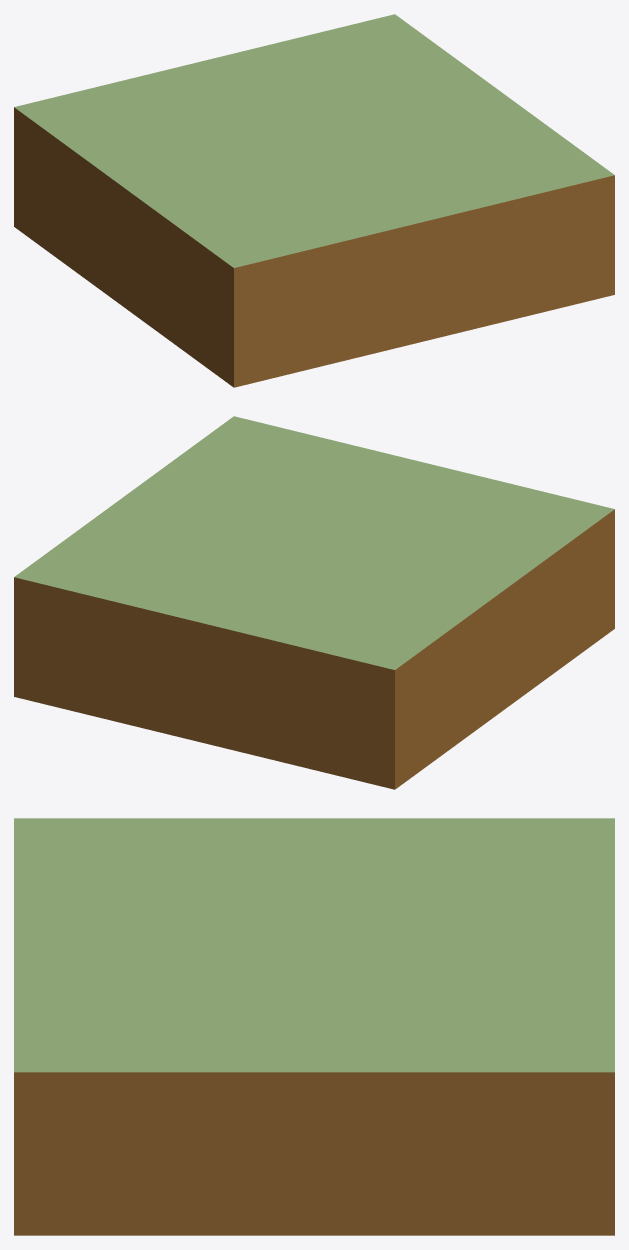
The model's file is floor_basic_green2.fbx.
3 renders of one model, top to bottom at view 1: azimuth 30°, elevation 25°; view 2: azimuth 150°, elevation 25°; view 3: azimuth 270°, elevation 25°, orthographic. The views are drawn at different scales.
Visible parts, largest first — view 1: green_basic_floor2; view 2: green_basic_floor2; view 3: green_basic_floor2.
Boxes of the visible parts, x1=… form: green_basic_floor2: x1=14, y1=14, x2=614, y2=387; green_basic_floor2: x1=14, y1=416, x2=614, y2=789; green_basic_floor2: x1=14, y1=818, x2=614, y2=1235.
Bounding box in the file's own units: 100 × 100 × 30.
